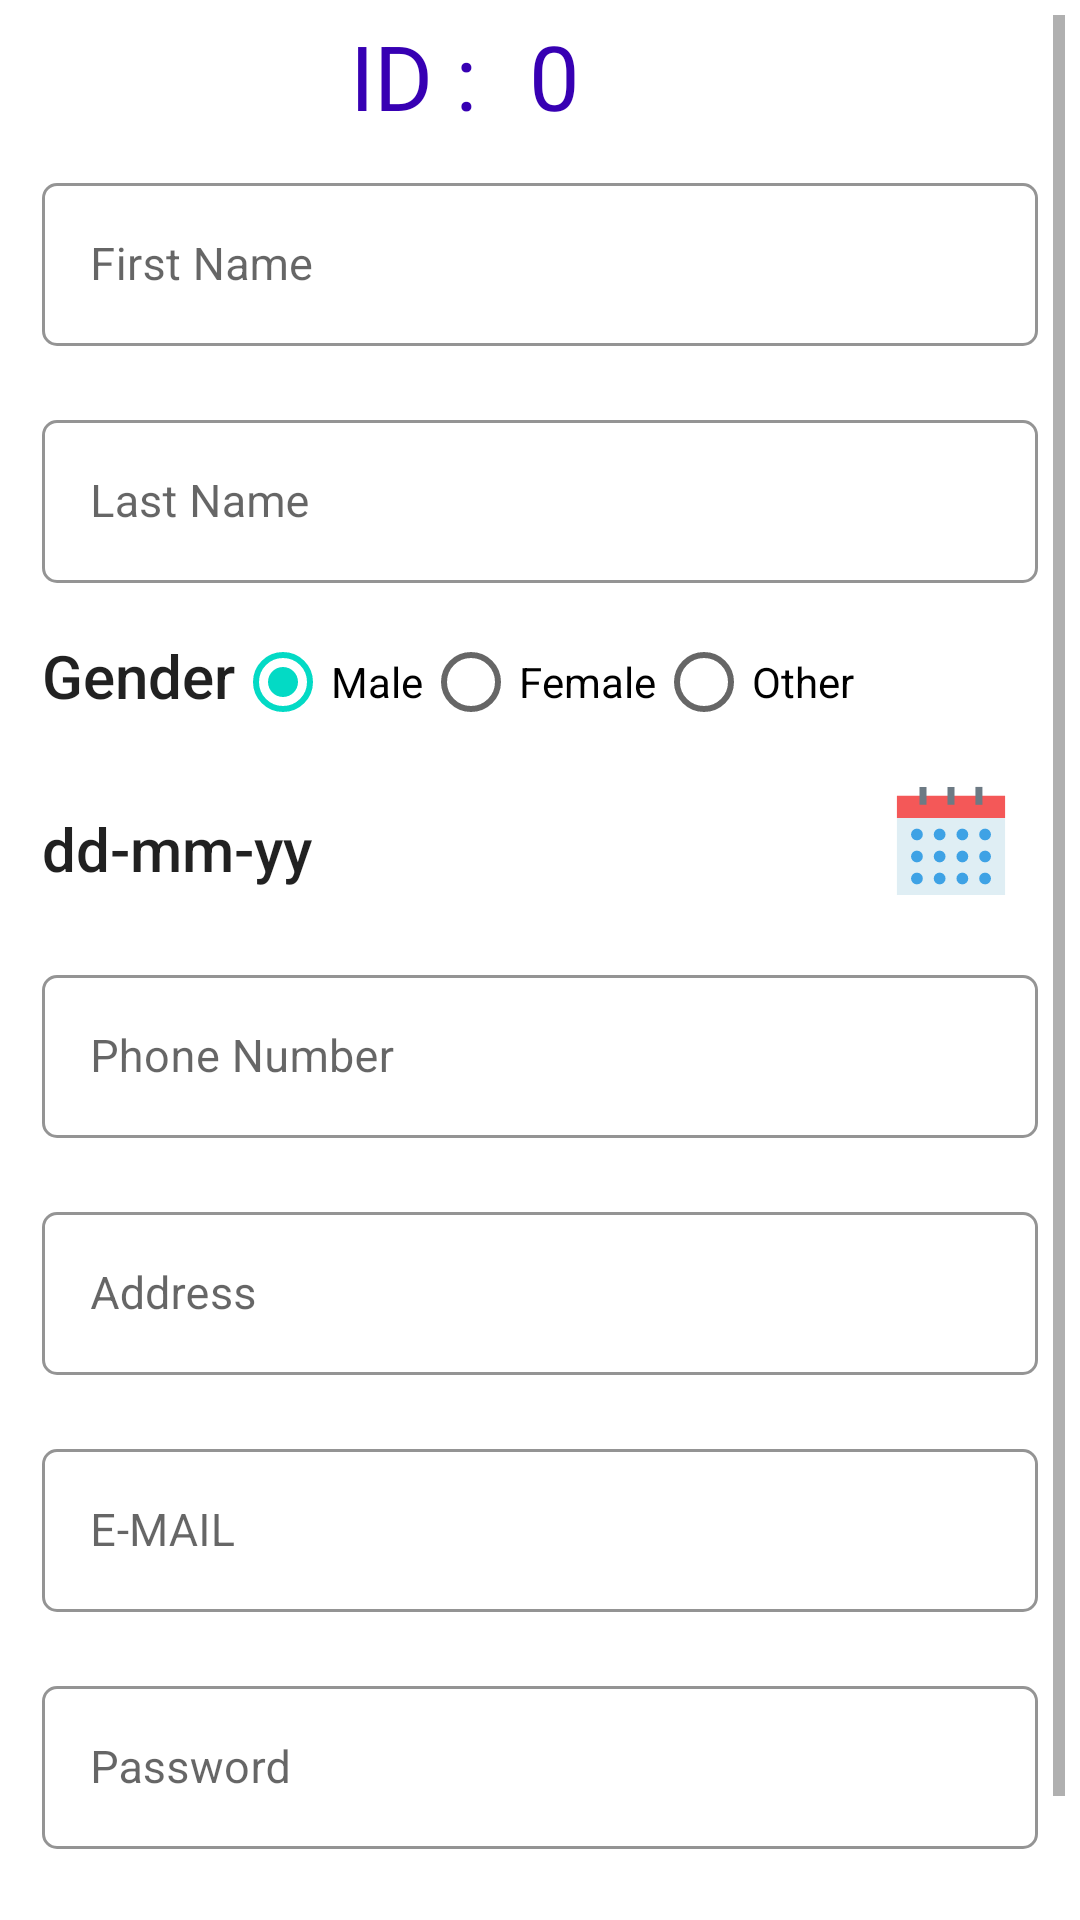

Where to tap for icons on this 1080w x 1920h app screen, as (x,y):
calendar: (951,841)
